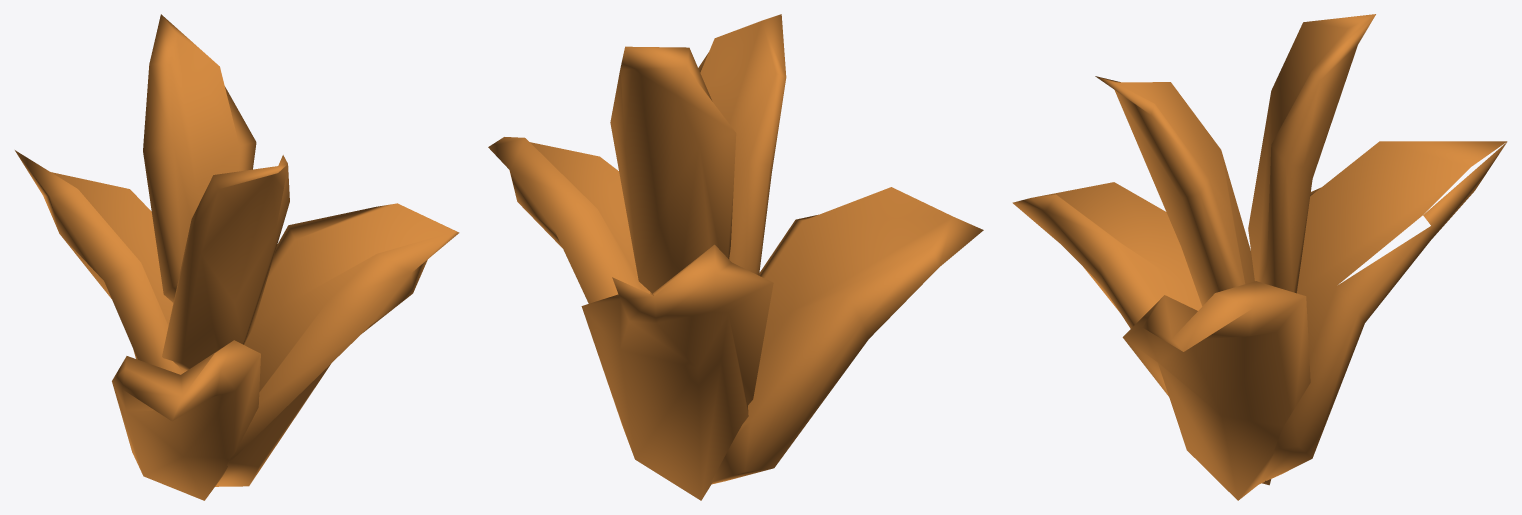
Rendered from Herb_B_01_LOD2.gltf.
3 views of the same model, side by side, from view 1: azimuth 30°, elevation 25°; view 2: azimuth 150°, elevation 25°; view 3: azimuth 270°, elevation 25° (orthographic). The views are drawn at different scales.
Parts seen in each view (by area): view 1: Herb_B_01_LOD2_Cube.730; view 2: Herb_B_01_LOD2_Cube.730; view 3: Herb_B_01_LOD2_Cube.730.
Part boxes in pixels (x1,y1,x2,y2): Herb_B_01_LOD2_Cube.730: (15,14,459,500); Herb_B_01_LOD2_Cube.730: (488,14,983,500); Herb_B_01_LOD2_Cube.730: (1012,14,1507,500).
Size of the model in its own units: 3.49 by 3.89 by 3.69.
1 material, 1 textured.
